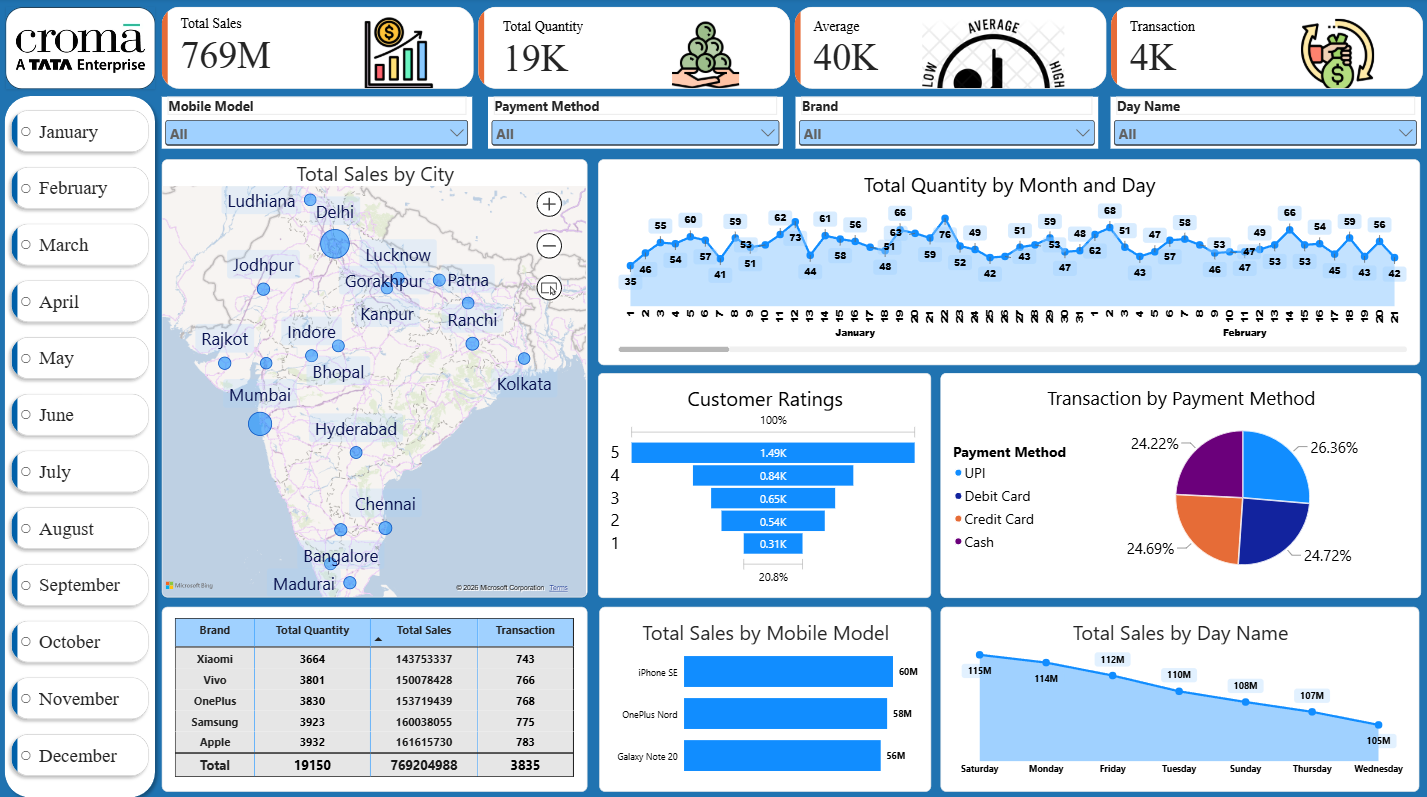

What the dashboard file says about the page in this screenshot:
{"tool":"powerbi","page":{"name":"Page 1","canvas":[1920,1080],"ordinal":0},"visuals":[{"type":"shape","box":[0,122.3,219.4,958.1],"z":2000},{"type":"advancedSlicerVisual","fields":{"Values":["Sales Data.Date.Variation.Date Hierarchy.Month"]},"box":[10,122.3,201,958.1],"z":3000},{"type":"cardVisual","fields":{"Data":["Sales Data.Total Slaes","Sales Data.Total Quantity","Sales Data.Average","Sales Data.Transaction","Sales Data.Total Slaes"]},"box":[219.4,11.7,1690,110.5],"z":4000},{"type":"map","title":"Total Sales by City","fields":{"Category":["Sales Data.City"],"Size":["Sales Data.Total Slaes"]},"box":[220.2,216,570.4,587],"z":5000},{"type":"lineChart","fields":{"Category":["Sales Data.Date.Variation.Date Hierarchy.Month","Sales Data.Date.Variation.Date Hierarchy.Day"],"Y":["Sales Data.Total Quantity"]},"box":[804.8,216.1,1101.2,275.8],"z":6000},{"type":"pieChart","fields":{"Category":["Sales Data.Payment Method"],"Y":["Sales Data.Transaction"]},"box":[1262.8,502.3,643.6,301.7],"z":7000},{"type":"barChart","fields":{"Category":["Sales Data.Mobile Model"],"Y":["Sales Data.Total Sales"]},"box":[805.8,816.3,444.8,247.7],"z":8000},{"type":"funnel","title":"Customer Ratings","fields":{"Category":["Sales Data.Customer Ratings"],"Y":["CountNonNull(Sales Data.Customer Ratings)"]},"box":[804.1,502.3,446.5,301.7],"z":9000},{"type":"areaChart","fields":{"Category":["Sales Data.Day Name"],"Y":["Sales Data.Total Sales"]},"box":[1262.8,816.3,641.9,247.7],"z":10000},{"type":"tableEx","fields":{"Values":["Sales Data.Brand","Sales Data.Total Quantity","Sales Data.Total Sales","Sales Data.Transaction"]},"box":[219.8,816.3,570.4,247.7],"z":11000},{"type":"slicer","fields":{"Values":["Sales Data.Mobile Model"]},"box":[220.2,131.7,415.8,70],"z":12000},{"type":"slicer","fields":{"Values":["Sales Data.Payment Method"]},"box":[656.6,131.7,395.2,70],"z":12001},{"type":"slicer","fields":{"Values":["Sales Data.Brand"]},"box":[1068.3,131.7,405.5,70],"z":12002},{"type":"slicer","fields":{"Values":["Sales Data.Day Name"]},"box":[1490.2,131.7,415.8,70],"z":12003},{"type":"image","box":[10,11.7,201,110.5],"z":12004}]}

Visuals, with their boxes in screenshot pixels (x1, y1, x2, y2), scaled from the page's 1920x1080 canvas onto the 1427x797 screenshot:
shape: (left=0, top=90, right=163, bottom=796)
advancedSlicerVisual - Sales Data.Date.Variation.Date Hierarchy.Month: (left=7, top=90, right=157, bottom=796)
cardVisual - Sales Data.Total Slaes x Sales Data.Total Quantity: (left=163, top=9, right=1419, bottom=90)
"Total Sales by City" map: (left=164, top=159, right=588, bottom=593)
lineChart - Sales Data.Date.Variation.Date Hierarchy.Month x Sales Data.Date.Variation.Date Hierarchy.Day: (left=598, top=159, right=1417, bottom=363)
pieChart - Sales Data.Payment Method x Sales Data.Transaction: (left=939, top=371, right=1417, bottom=593)
barChart - Sales Data.Mobile Model x Sales Data.Total Sales: (left=599, top=602, right=929, bottom=785)
"Customer Ratings" funnel: (left=598, top=371, right=929, bottom=593)
areaChart - Sales Data.Day Name x Sales Data.Total Sales: (left=939, top=602, right=1416, bottom=785)
tableEx - Sales Data.Brand x Sales Data.Total Quantity: (left=163, top=602, right=587, bottom=785)
slicer - Sales Data.Mobile Model: (left=164, top=97, right=473, bottom=149)
slicer - Sales Data.Payment Method: (left=488, top=97, right=782, bottom=149)
slicer - Sales Data.Brand: (left=794, top=97, right=1095, bottom=149)
slicer - Sales Data.Day Name: (left=1108, top=97, right=1417, bottom=149)
image: (left=7, top=9, right=157, bottom=90)
